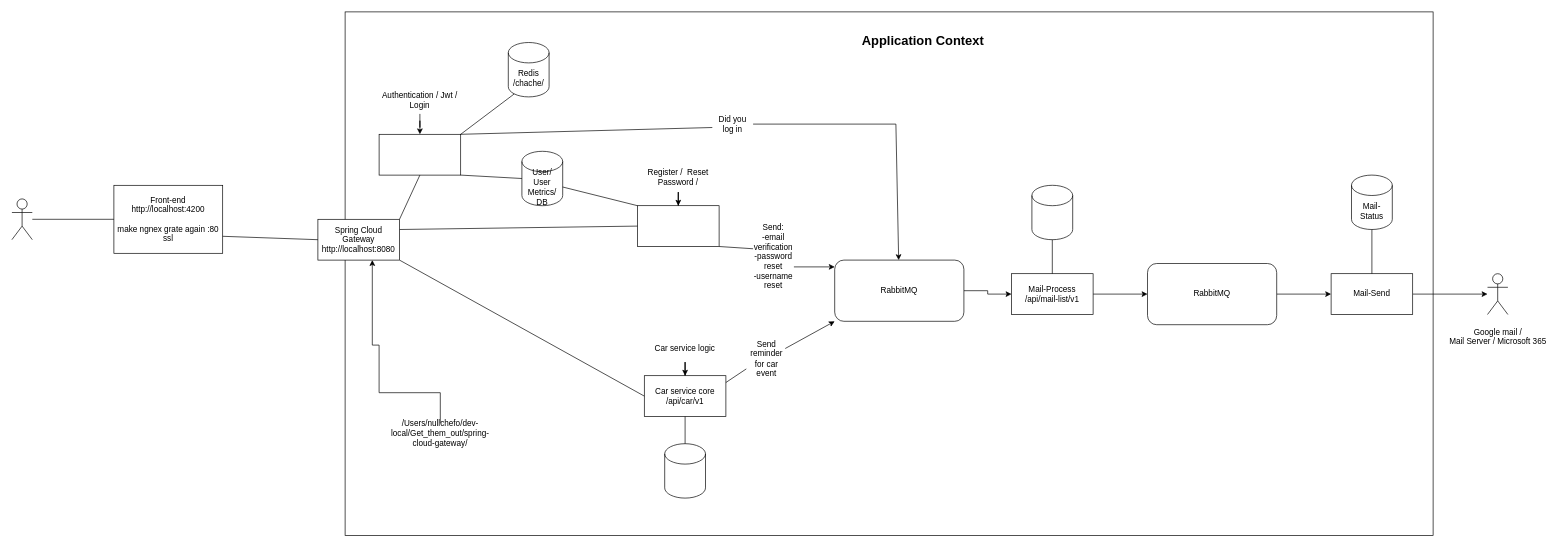
This 1558x547 diagram has some shape labels left out. Here are the shapes that lost their labels. From the top down, the box of each, then its label:
(378, 134, 461, 175): Auth service /api/auth/v1/
(11, 198, 32, 240): User
(637, 205, 719, 247): User service /api/user/v1
(1031, 185, 1073, 240): Mail-List
(664, 443, 706, 498): Car DB
